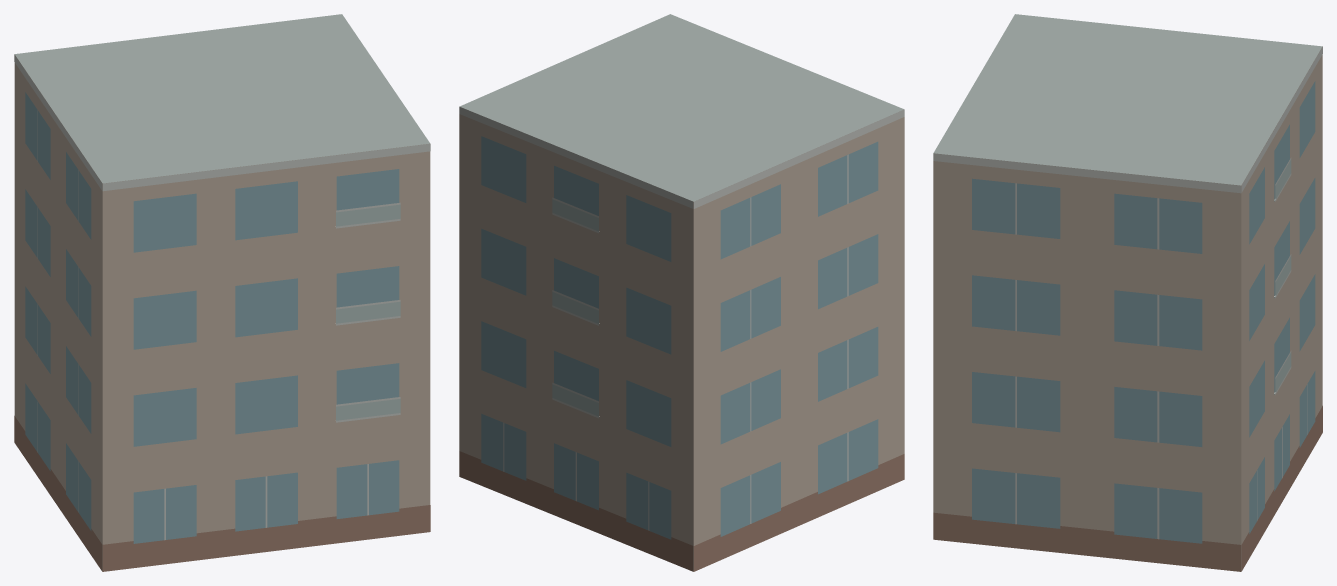
File: residential-5a2b00fd-2199-4b36-b68f-521d71ce4ed5.glb
3 renders of one model, left to right at view 1: azimuth 30°, elevation 25°; view 2: azimuth 150°, elevation 25°; view 3: azimuth 270°, elevation 25°, orthographic. The views are drawn at different scales.
Visible parts, largest first — view 1: residential-5a2b00fd-2199-4b36-b68f-521d71ce4ed5.tmp; view 2: residential-5a2b00fd-2199-4b36-b68f-521d71ce4ed5.tmp; view 3: residential-5a2b00fd-2199-4b36-b68f-521d71ce4ed5.tmp.
Boxes of the visible parts, box(x1,y1,x2,y2) form: residential-5a2b00fd-2199-4b36-b68f-521d71ce4ed5.tmp: box(14, 14, 430, 571); residential-5a2b00fd-2199-4b36-b68f-521d71ce4ed5.tmp: box(459, 14, 904, 571); residential-5a2b00fd-2199-4b36-b68f-521d71ce4ed5.tmp: box(933, 14, 1322, 571).
Bounding box in the file's own units: 11.63 × 12.2 × 11.15.
